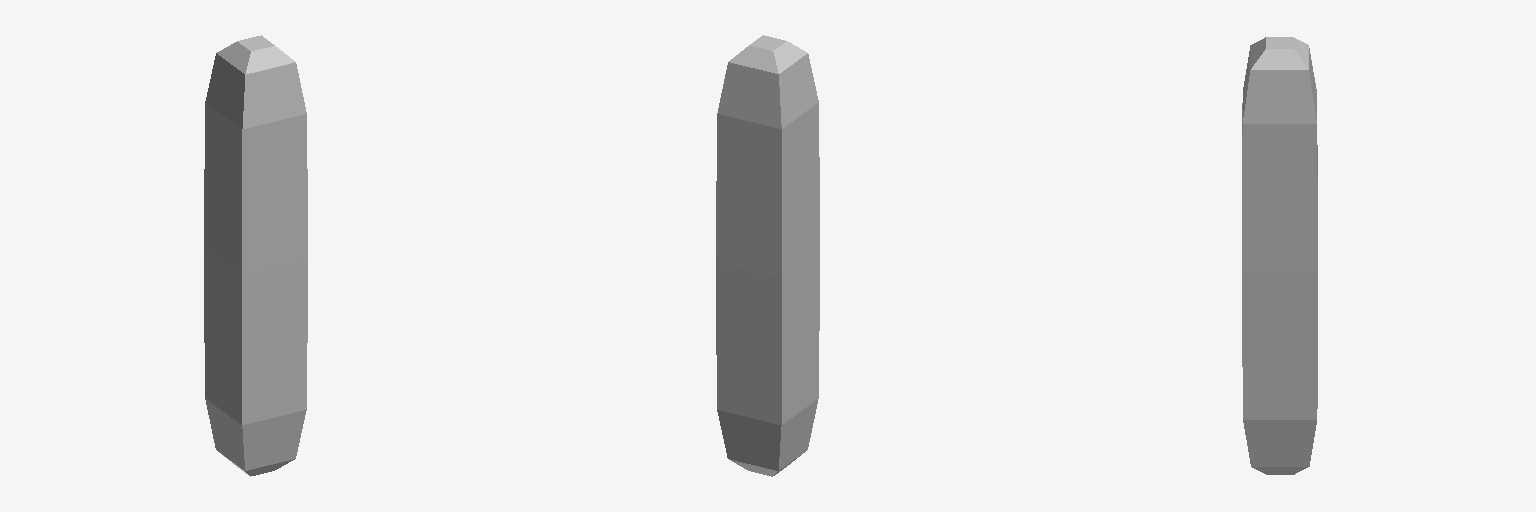
Rendered from Spine1.obj.
The picture shows the model from 3 angles: view 1: azimuth 30°, elevation 25°; view 2: azimuth 150°, elevation 25°; view 3: azimuth 270°, elevation 25°; orthographic projection.
Parts seen in each view (by area): view 1: ../rami/model/Spine1; view 2: ../rami/model/Spine1; view 3: ../rami/model/Spine1.
Boxes of the visible parts, x1,y1,x2,y2 form: ../rami/model/Spine1: [204, 35, 307, 476]; ../rami/model/Spine1: [716, 35, 819, 476]; ../rami/model/Spine1: [1242, 37, 1317, 474].
Bounding box in the file's own units: 0.0143 × 0.0874 × 0.0143.